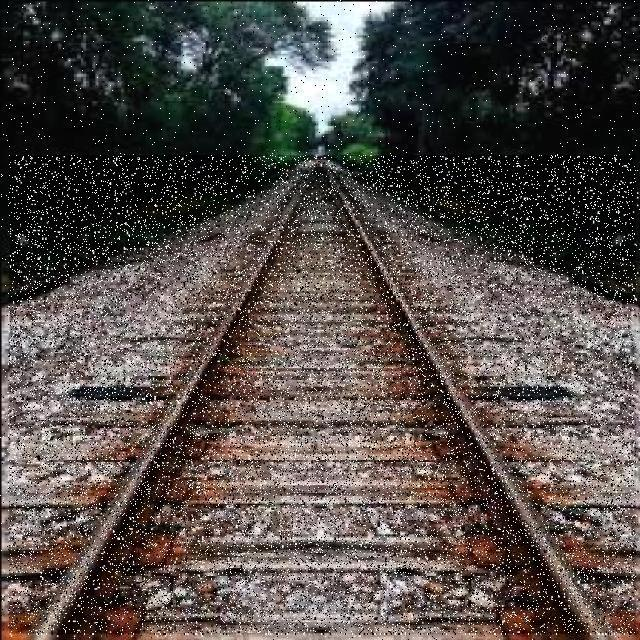rail: (10, 157, 637, 635)
